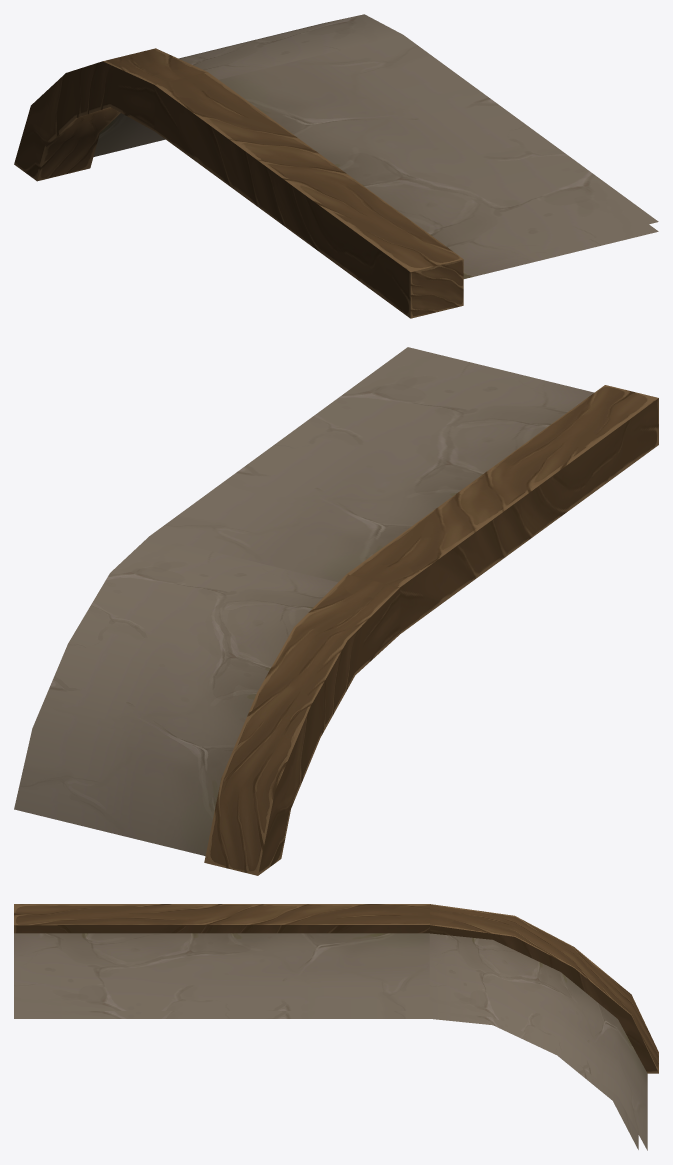
Rendered from Ceiling_1_4.FBX.
3 renders of one model, top to bottom at view 1: azimuth 30°, elevation 25°; view 2: azimuth 150°, elevation 25°; view 3: azimuth 270°, elevation 25°, orthographic. The views are drawn at different scales.
Parts seen in each view (by area): view 1: Ceiling_1_4; view 2: Ceiling_1_4; view 3: Ceiling_1_4.
Part boxes in pixels (box(x1,y1,x2,y2)): Ceiling_1_4: box(14, 14, 658, 318); Ceiling_1_4: box(14, 347, 658, 875); Ceiling_1_4: box(14, 904, 658, 1150).
Size of what is drawn, in the model's own units: 112 by 310 by 78.6.
